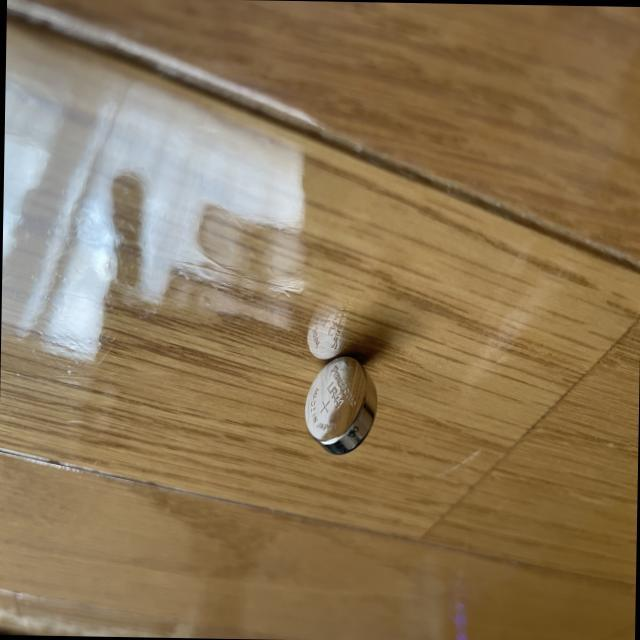COIN: (300, 354, 378, 454)
